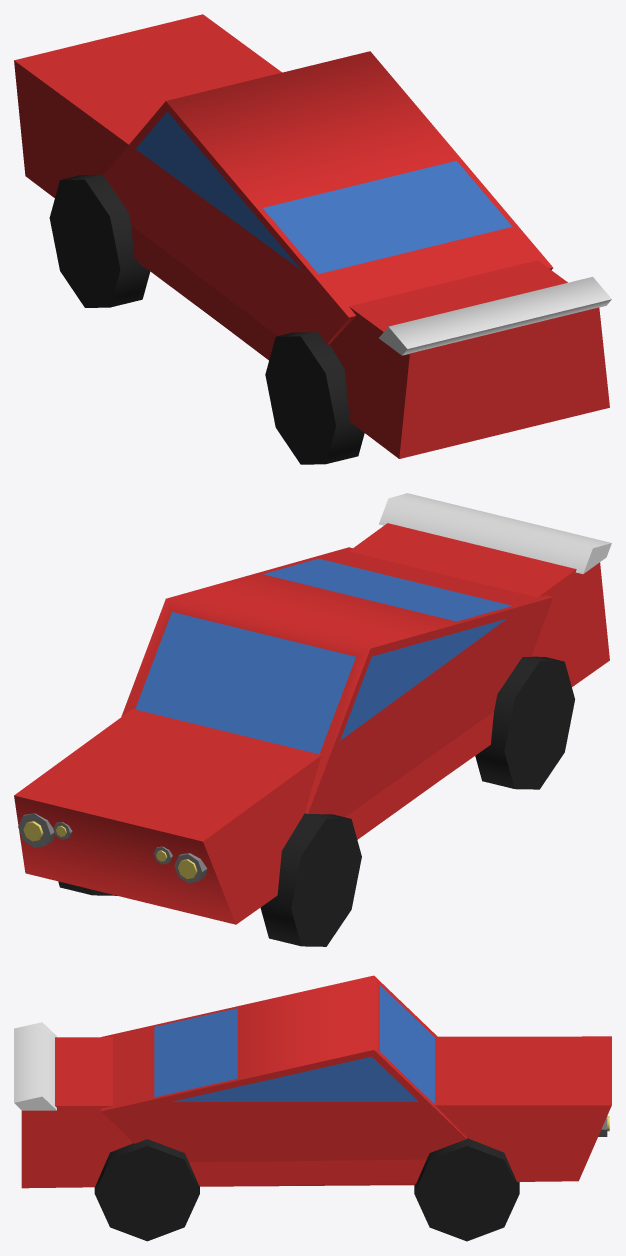
File: Auto (Sportauto).fbx
The picture shows the model from 3 angles, top to bottom: view 1: azimuth 30°, elevation 25°; view 2: azimuth 150°, elevation 25°; view 3: azimuth 270°, elevation 25°; orthographic projection. The views are drawn at different scales.
Parts seen in each view (by area): view 1: Würfel_3, Zylinder_7, Zylinder_8, Spoiler; view 2: Würfel_3, Zylinder_7, Zylinder_8, Spoiler, Röhre_4, Zylinder_2; view 3: Würfel_3, Zylinder, Zylinder_6, Spoiler.
Part boxes in pixels (box(x1,y1,x2,y2)): Würfel_3: box(14, 14, 609, 458); Zylinder_7: box(49, 174, 150, 307); Zylinder_8: box(265, 332, 364, 464); Spoiler: box(379, 276, 611, 355); Würfel_3: box(14, 523, 609, 924); Zylinder_7: box(260, 813, 361, 946); Zylinder_8: box(475, 656, 574, 789); Spoiler: box(379, 493, 611, 573); Röhre_4: box(18, 813, 207, 883); Zylinder_2: box(23, 821, 197, 879); Würfel_3: box(21, 975, 611, 1188); Zylinder: box(414, 1138, 519, 1241); Zylinder_6: box(94, 1139, 199, 1241); Spoiler: box(14, 1022, 56, 1110).
Bounding box in the file's own units: 236 × 232 × 680.
